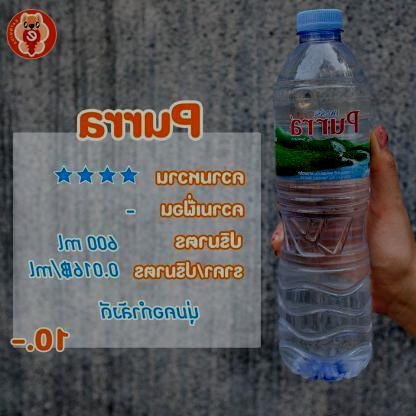bottle: (267, 5, 381, 389)
